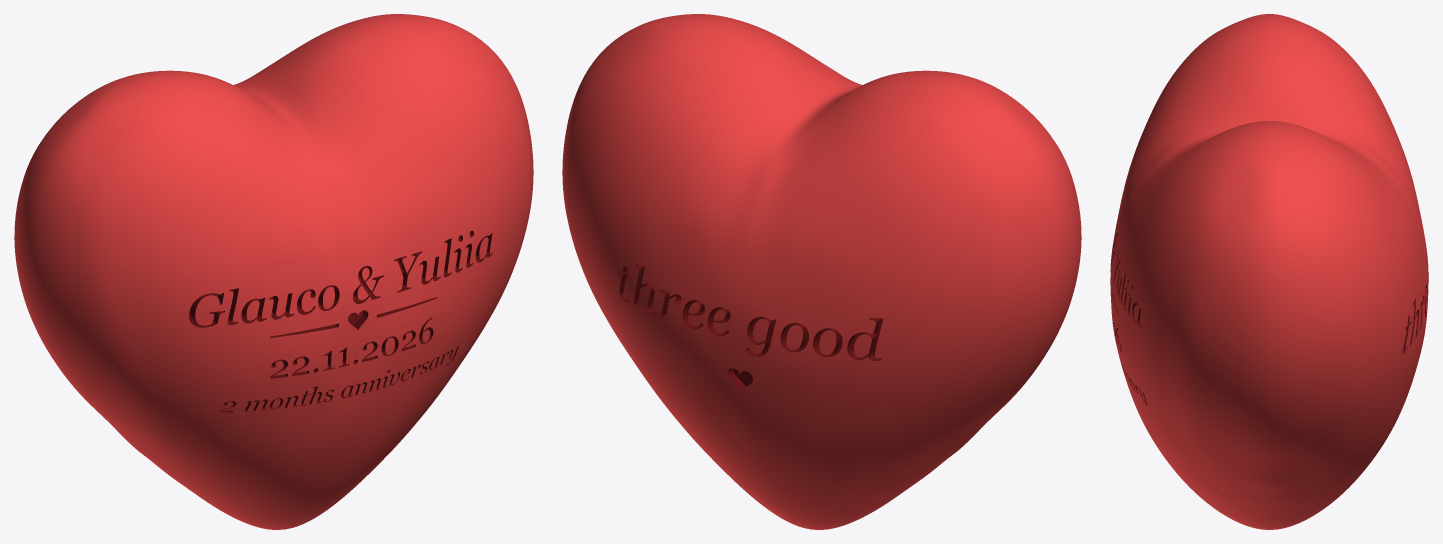
Rendered from month-02.glb.
3 renders of one model, left to right at view 1: azimuth 30°, elevation 25°; view 2: azimuth 150°, elevation 25°; view 3: azimuth 270°, elevation 25°, orthographic. The views are drawn at different scales.
Parts seen in each view (by area): view 1: Cuore_Glauco_Yuliia; view 2: Cuore_Glauco_Yuliia; view 3: Cuore_Glauco_Yuliia.
Part boxes in pixels (x1,y1,x2,y2): Cuore_Glauco_Yuliia: (14, 14, 533, 529); Cuore_Glauco_Yuliia: (562, 14, 1081, 529); Cuore_Glauco_Yuliia: (1110, 14, 1428, 529).
Size of the model in its own units: 1.72 by 1.58 by 1.03.
